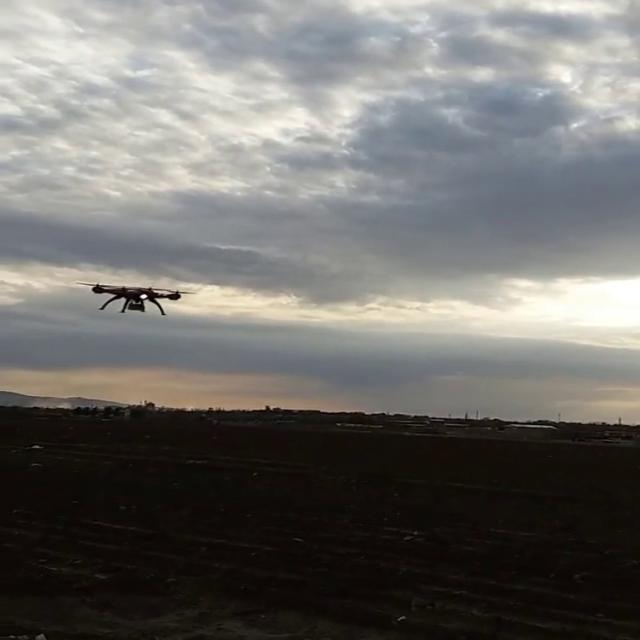drone: (82, 279, 199, 316)
